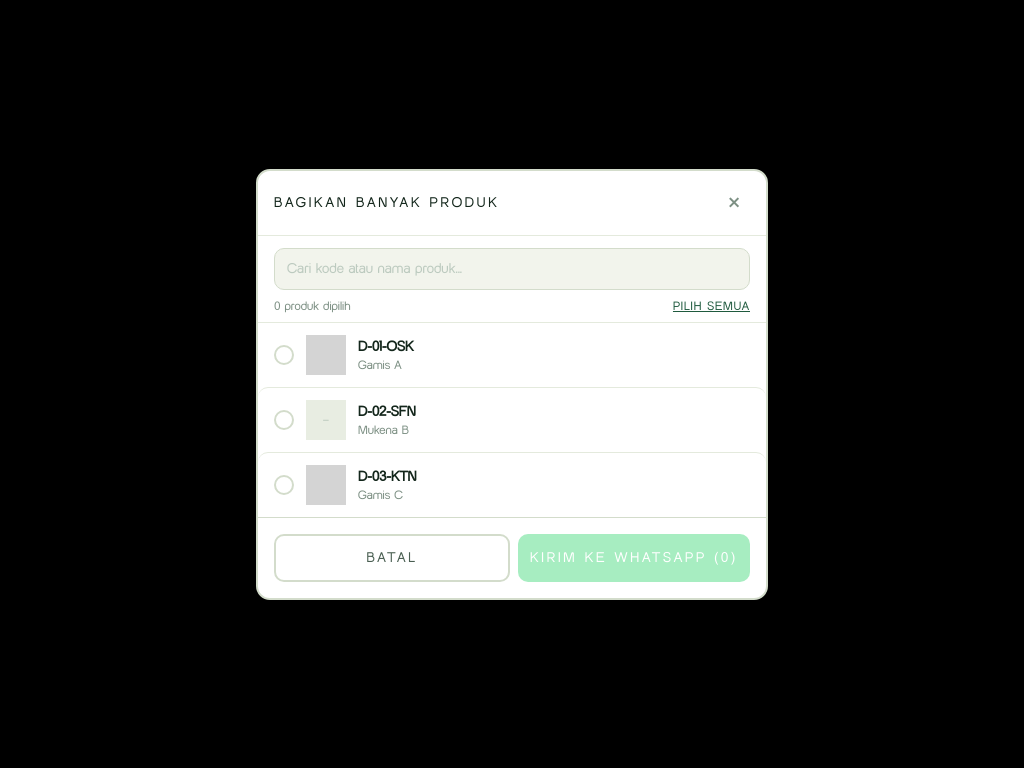
BulkShareModal › klik produk yang sudah dipilih membatalkan pilihan (toggle)
Click the text "D-01-OSK" at (386, 346), box [358,338,413,354]
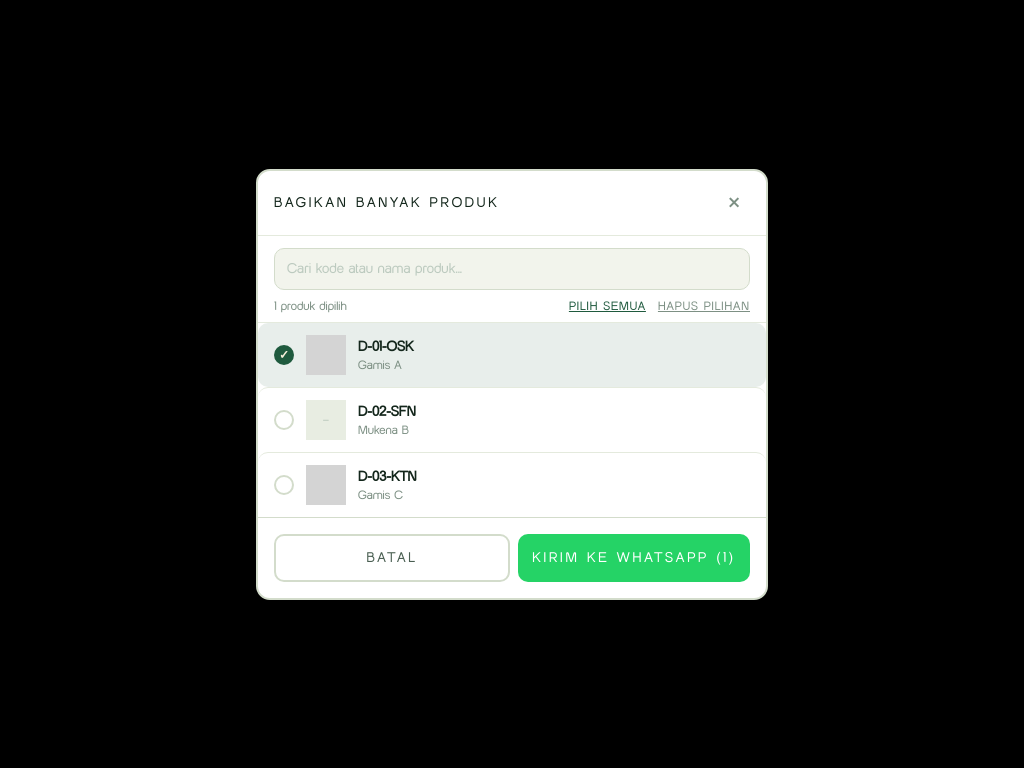
Expected: the text "1 produk dipilih" is shown, [274,298,347,314]
Click the text "D-01-OSK" at (386, 346), box [358,338,413,354]
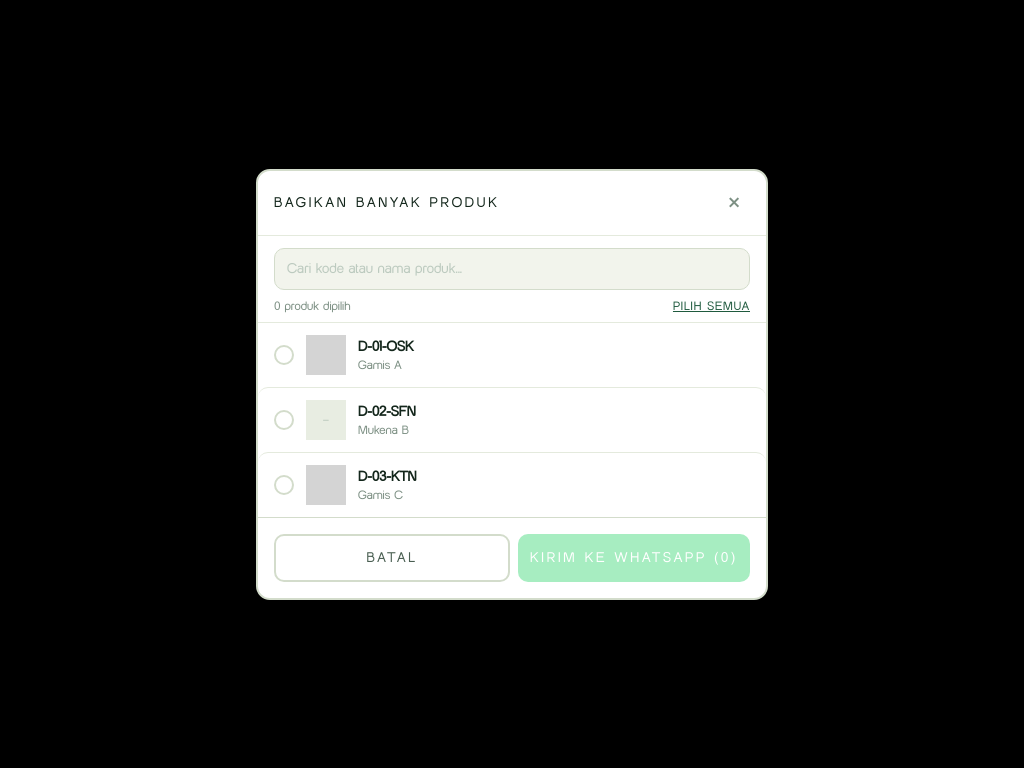
Expected: the text "0 produk dipilih" is shown, [274,298,350,314]
